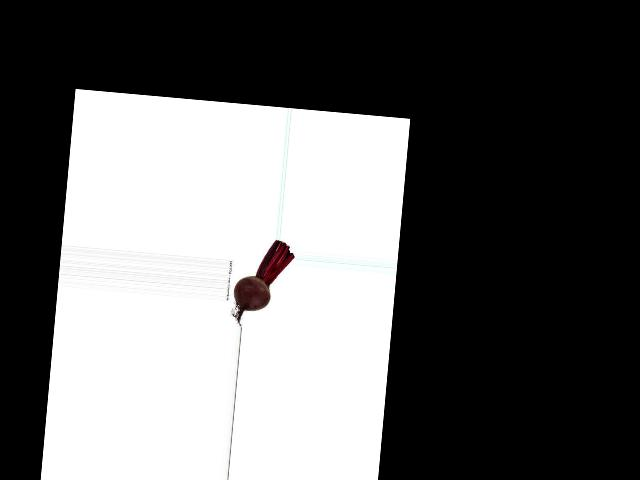beet: (231, 236, 295, 329)
